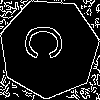C: (24, 23, 72, 62)
